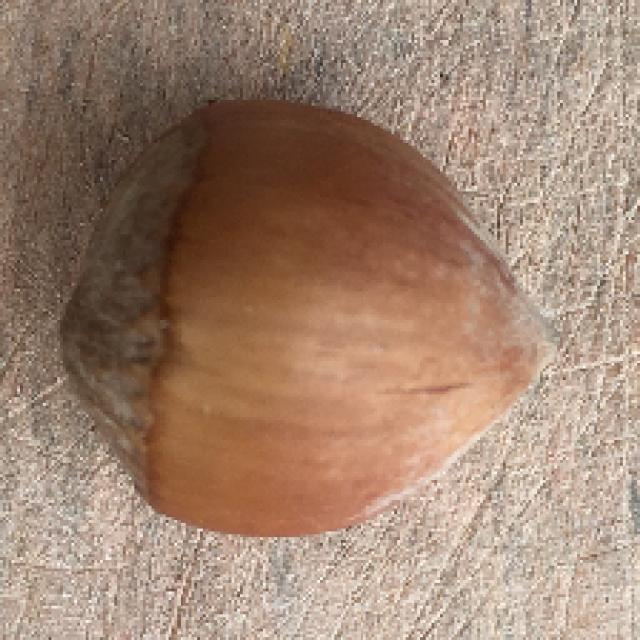DamagedHazelnut: (58, 113, 568, 529)
